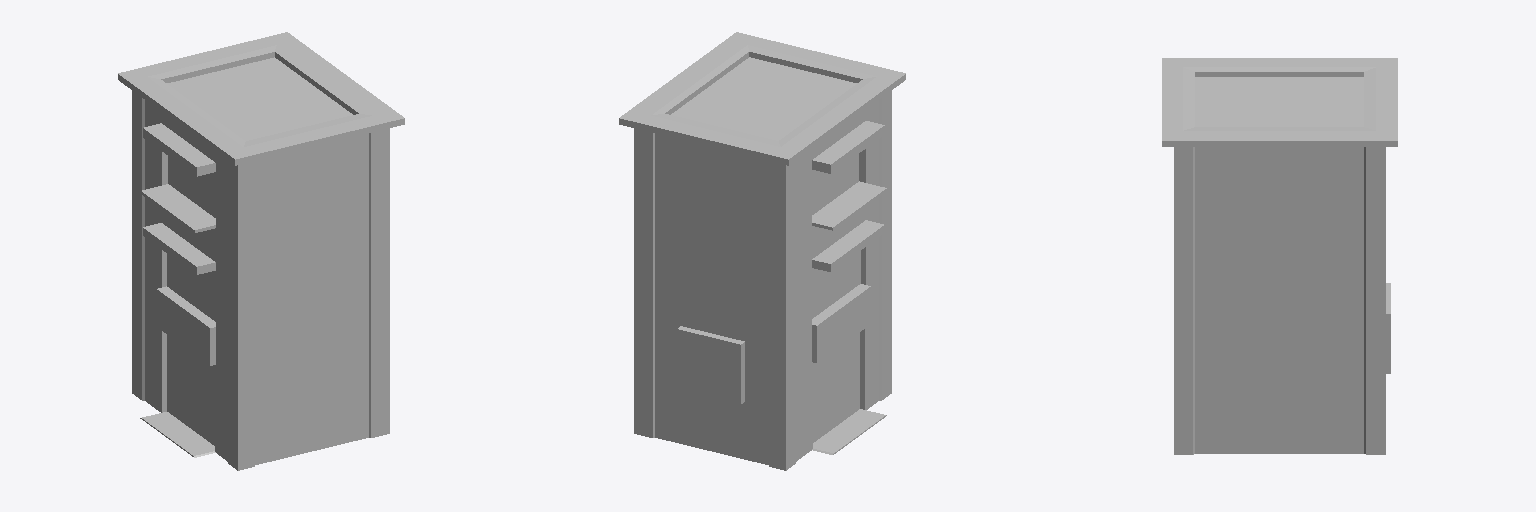
The model's file is EDIFICIO EXTERIOR.obj.
The picture shows the model from 3 angles: view 1: azimuth 30°, elevation 25°; view 2: azimuth 150°, elevation 25°; view 3: azimuth 270°, elevation 25°; orthographic projection.
Parts seen in each view (by area): view 1: pCube4; view 2: pCube4; view 3: pCube4.
Boxes of the visible parts, box(x1,y1,x2,y2) form: pCube4: box(118, 32, 404, 470); pCube4: box(619, 32, 905, 470); pCube4: box(1162, 58, 1397, 454).
Size of the model in its own units: 3030 by 5094 by 3420.